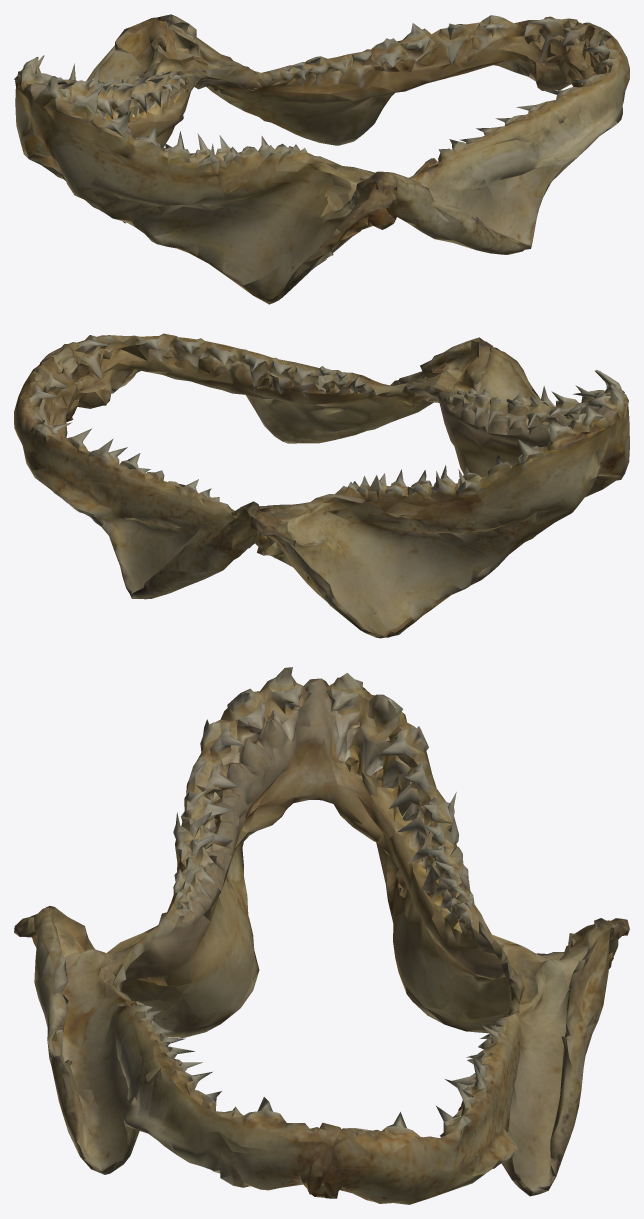
Rendered from SharkTeeth.fbx.
3 views of the same model, one above another, from view 1: azimuth 30°, elevation 25°; view 2: azimuth 150°, elevation 25°; view 3: azimuth 270°, elevation 25° (orthographic). The views are drawn at different scales.
Visible parts, largest first — view 1: shark_teeth_155.90; view 2: shark_teeth_155.90; view 3: shark_teeth_155.90.
Part boxes in pixels (x1=…): shark_teeth_155.90: x1=14, y1=14, x2=629, y2=304; shark_teeth_155.90: x1=14, y1=333, x2=629, y2=638; shark_teeth_155.90: x1=14, y1=667, x2=629, y2=1204.
Size of the model in its own units: 211 by 81.58 by 155.
